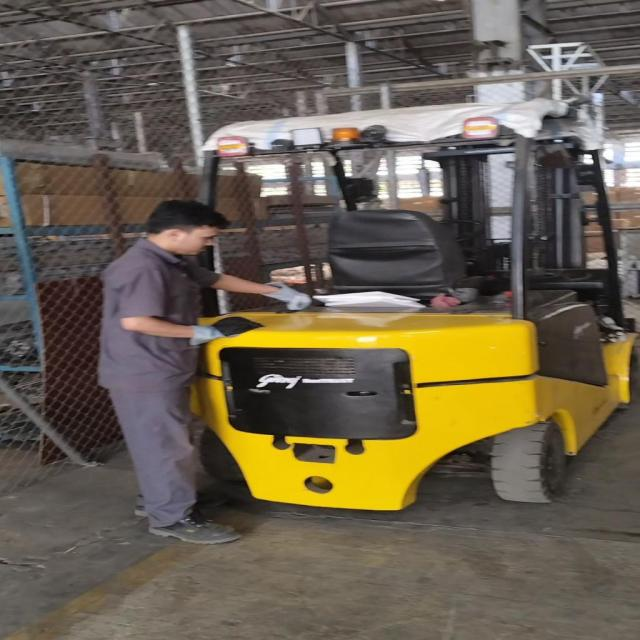Gloves-Detection: (259, 280, 319, 310), (193, 318, 255, 343)
